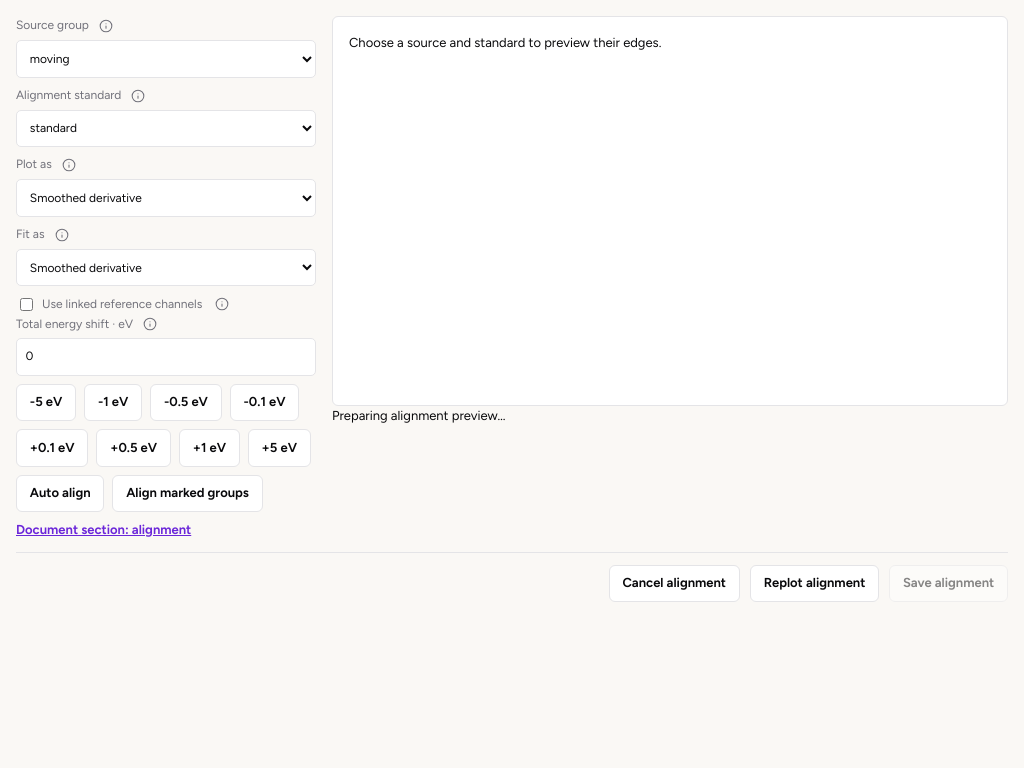
Test: rejects malformed revision preview data
Click the button "Auto align" at (60, 494), box [16,475,104,512]
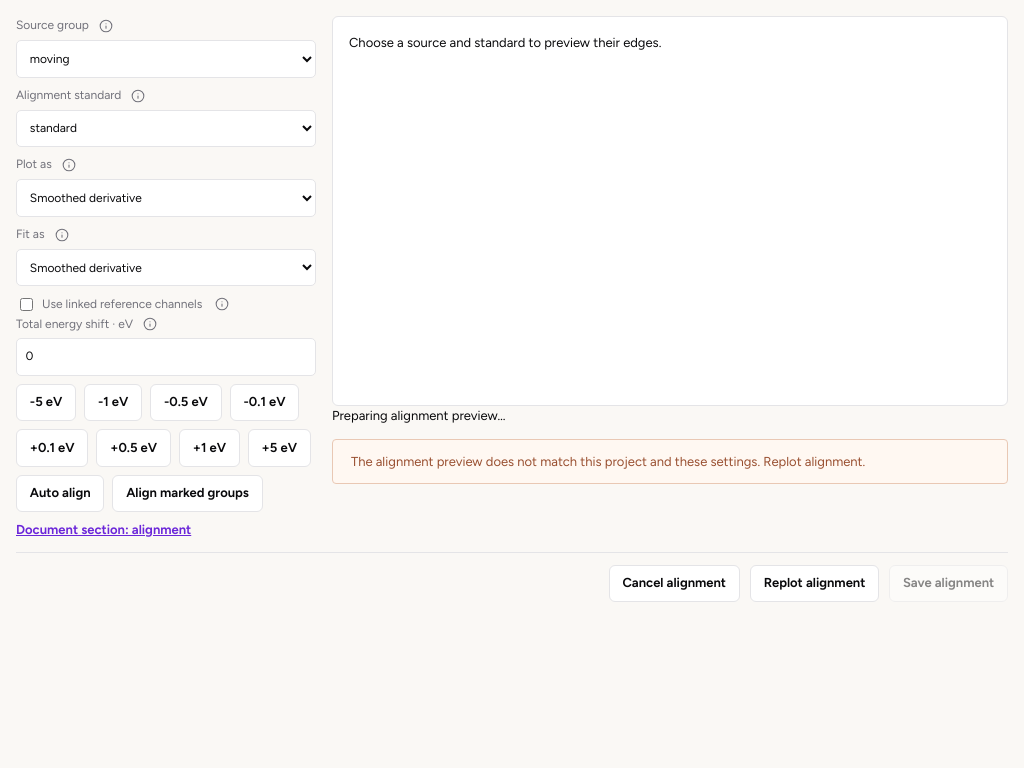
Expected: the button "Save alignment" is disabled, [889,565,1008,602]
Now the 2nd message shows "does not match", box [351,454,865,468]
